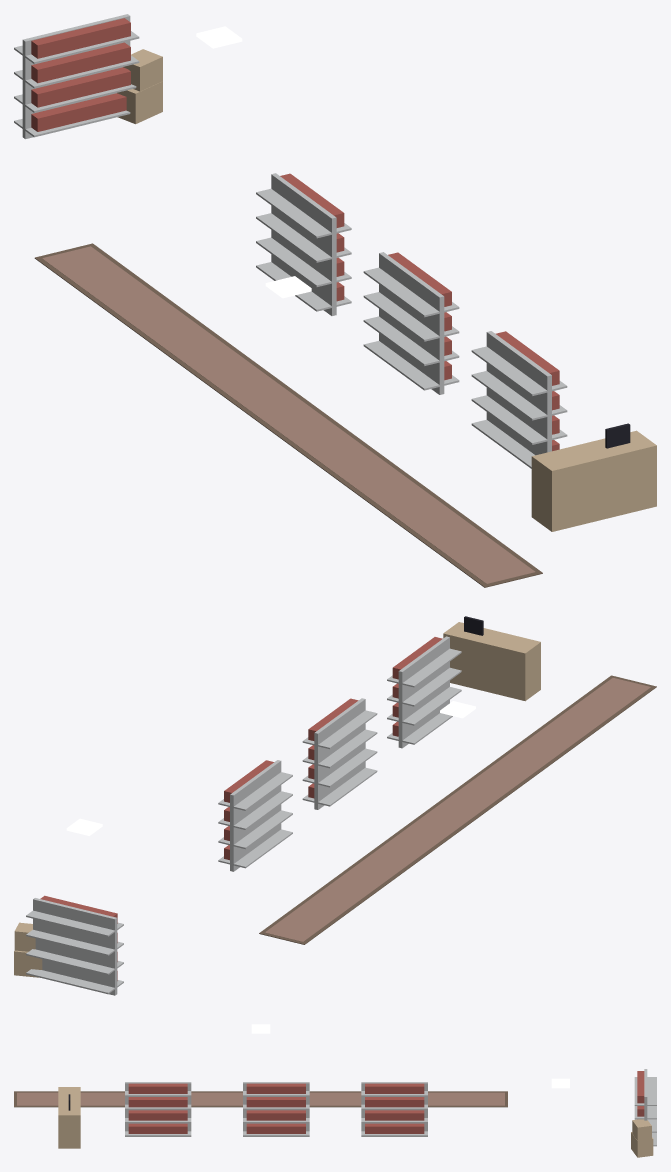
File: fine-s0.glb
3 views of the same model, one above another, from view 1: azimuth 30°, elevation 25°; view 2: azimuth 150°, elevation 25°; view 3: azimuth 270°, elevation 25° (orthographic). The views are drawn at different scales.
Visible parts, largest first — view 1: soft-s0, shelving.000, shop-counter.000, shelf.001, shelf.000, shelf.002, cardboard-box.000; view 2: soft-s0, shelving.000, shop-counter.000, shelf.001, shelf.000, shelf.002, cardboard-box.000; view 3: soft-s0, shelf.000, shelf.001, shelf.002, shop-counter.000, shelving.000, cardboard-box.000.
Part boxes in pixels (left/top/right/bottom): soft-s0: left=34, top=243, right=542, bottom=587; shelving.000: left=14, top=14, right=139, bottom=139; shop-counter.000: left=531, top=423, right=656, bottom=531; shelf.001: left=363, top=252, right=459, bottom=394; shelf.000: left=256, top=173, right=351, bottom=315; shelf.002: left=471, top=331, right=567, bottom=468; cardboard-box.000: left=117, top=49, right=162, bottom=124; soft-s0: left=259, top=675, right=656, bottom=944; shelving.000: left=26, top=895, right=123, bottom=995; shop-counter.000: left=443, top=616, right=540, bottom=701; shelf.001: left=302, top=698, right=377, bottom=809; shelf.000: left=218, top=760, right=292, bottom=871; shelf.002: left=387, top=636, right=461, bottom=748; cardboard-box.000: left=14, top=922, right=42, bottom=977; soft-s0: left=14, top=1091, right=507, bottom=1107; shelf.000: left=361, top=1082, right=427, bottom=1136; shelf.001: left=243, top=1082, right=309, bottom=1136; shelf.002: left=125, top=1082, right=191, bottom=1136; shop-counter.000: left=58, top=1087, right=80, bottom=1148; shelving.000: left=634, top=1069, right=656, bottom=1146; cardboard-box.000: left=631, top=1119, right=653, bottom=1157.
Bounding box in the file's own units: 4.24 × 2.14 × 17.4.
